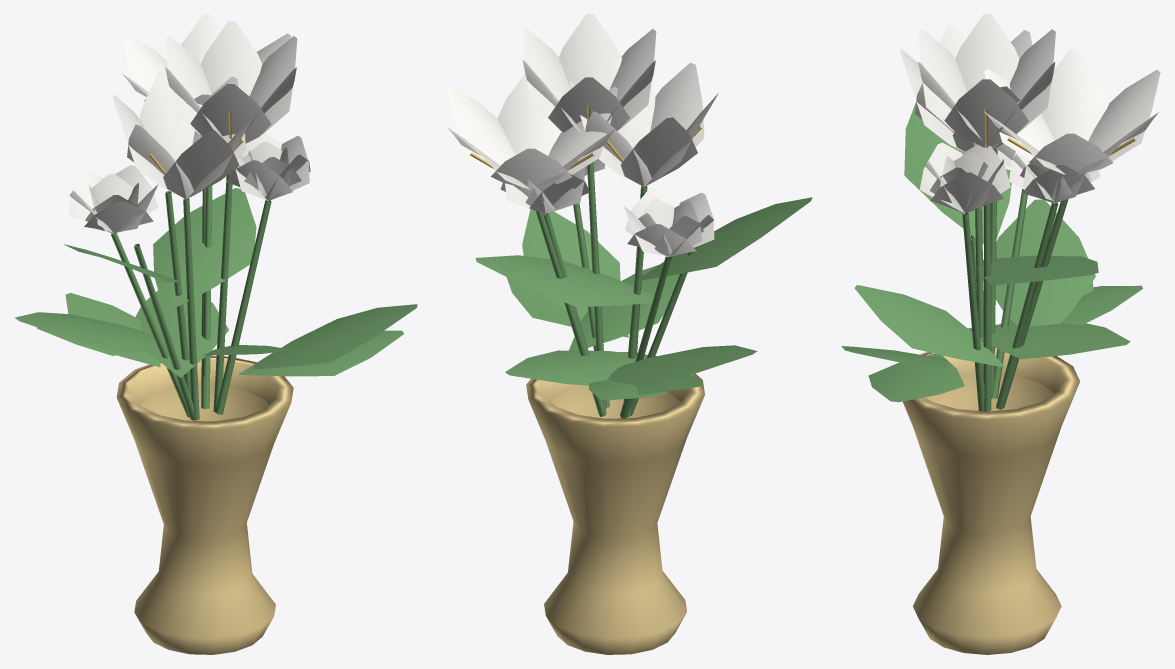
The model's file is lotprop__lot_chapel_nave_flowers_white_low.glb.
The picture shows the model from 3 angles, left to right: view 1: azimuth 30°, elevation 25°; view 2: azimuth 150°, elevation 25°; view 3: azimuth 270°, elevation 25°; orthographic projection. The views are drawn at different scales.
Visible parts, largest first — view 1: lotprop__lot_chapel_nave_flowers_white_low_brass, lotprop__lot_chapel_nave_flowers_white_low_leaf, lotprop__lot_chapel_nave_flowers_white_low_white; view 2: lotprop__lot_chapel_nave_flowers_white_low_white, lotprop__lot_chapel_nave_flowers_white_low_brass, lotprop__lot_chapel_nave_flowers_white_low_leaf; view 3: lotprop__lot_chapel_nave_flowers_white_low_brass, lotprop__lot_chapel_nave_flowers_white_low_white, lotprop__lot_chapel_nave_flowers_white_low_leaf.
Boxes of the visible parts, box(x1,y1,x2,y2) form: lotprop__lot_chapel_nave_flowers_white_low_brass: box(116, 355, 293, 654); lotprop__lot_chapel_nave_flowers_white_low_leaf: box(15, 171, 417, 420); lotprop__lot_chapel_nave_flowers_white_low_white: box(68, 14, 310, 233); lotprop__lot_chapel_nave_flowers_white_low_white: box(447, 14, 718, 256); lotprop__lot_chapel_nave_flowers_white_low_brass: box(526, 352, 704, 654); lotprop__lot_chapel_nave_flowers_white_low_leaf: box(475, 162, 812, 418); lotprop__lot_chapel_nave_flowers_white_low_brass: box(903, 348, 1079, 654); lotprop__lot_chapel_nave_flowers_white_low_white: box(900, 14, 1160, 213); lotprop__lot_chapel_nave_flowers_white_low_leaf: box(841, 101, 1142, 411).
Bounding box in the file's own units: 0.3124 × 0.5295 × 0.2573.
